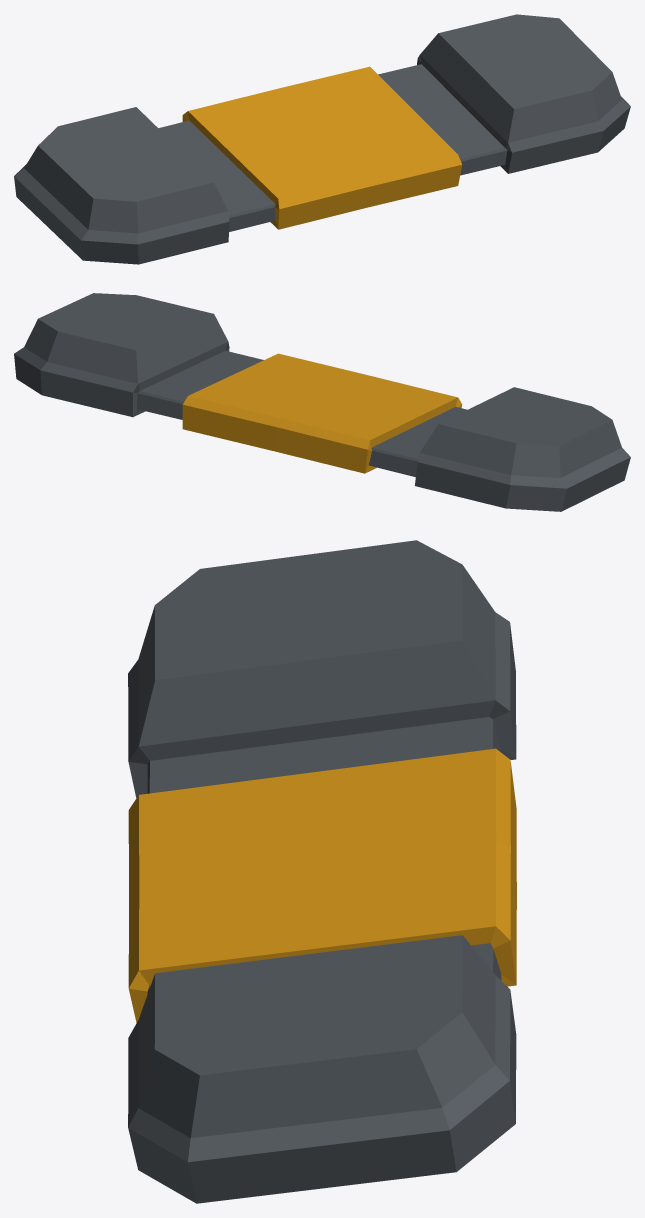
The model's file is Mothership_01_Detail_2_Yellow.fbx.
3 renders of one model, top to bottom at view 1: azimuth 30°, elevation 25°; view 2: azimuth 150°, elevation 25°; view 3: azimuth 270°, elevation 25°, orthographic. The views are drawn at different scales.
Parts seen in each view (by area): view 1: Mothership_01_Detail_2_Yellow; view 2: Mothership_01_Detail_2_Yellow; view 3: Mothership_01_Detail_2_Yellow.
Boxes of the visible parts, x1,y1,x2,y2 form: Mothership_01_Detail_2_Yellow: [14, 14, 630, 264]; Mothership_01_Detail_2_Yellow: [14, 293, 630, 511]; Mothership_01_Detail_2_Yellow: [128, 540, 516, 1203].
Size of the model in its own units: 1299 by 178 by 395.
1 material, 1 textured.
